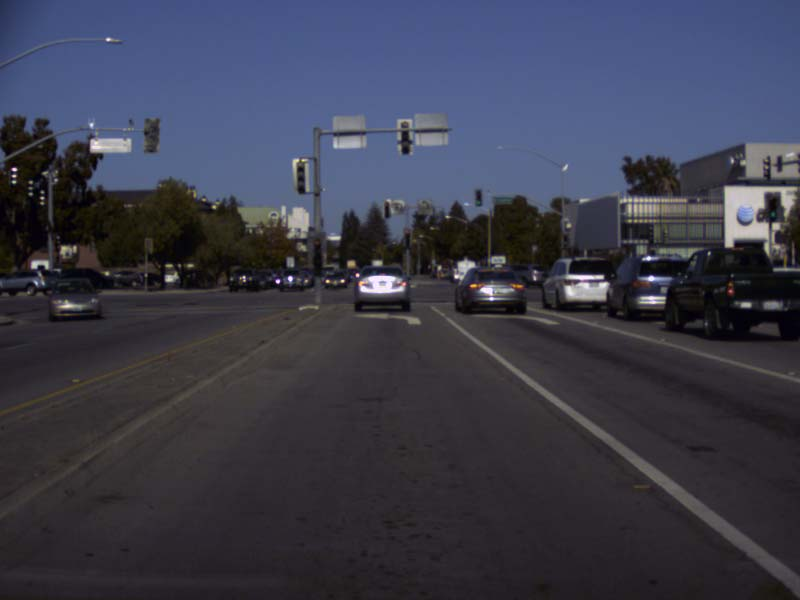Green: (769, 197, 776, 219), (476, 189, 480, 205), (563, 235, 567, 246)
Red: (313, 240, 321, 266), (404, 229, 409, 246), (384, 202, 388, 217)
